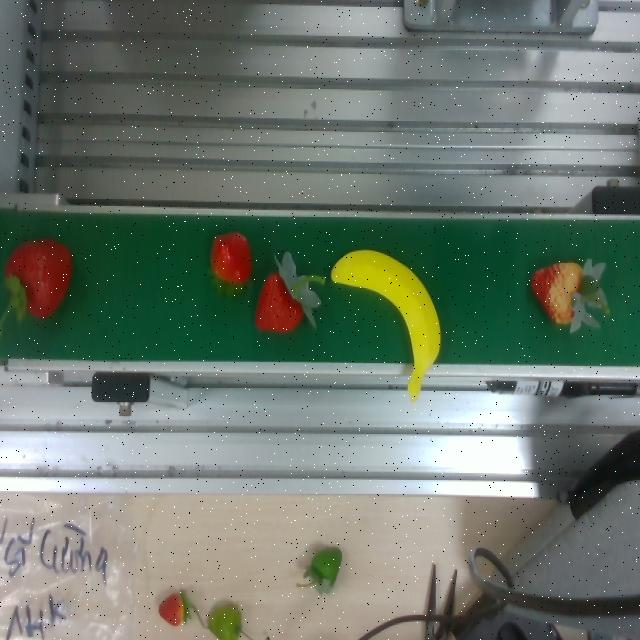Large Ripe Strawberry: (8, 231, 76, 349)
Moldy Strawberry: (524, 250, 608, 336)
None - Strawberry: (330, 250, 454, 386)
Small Ripe Strawberry: (252, 262, 322, 344), (202, 224, 256, 294)
conveyor: (0, 198, 640, 374)
